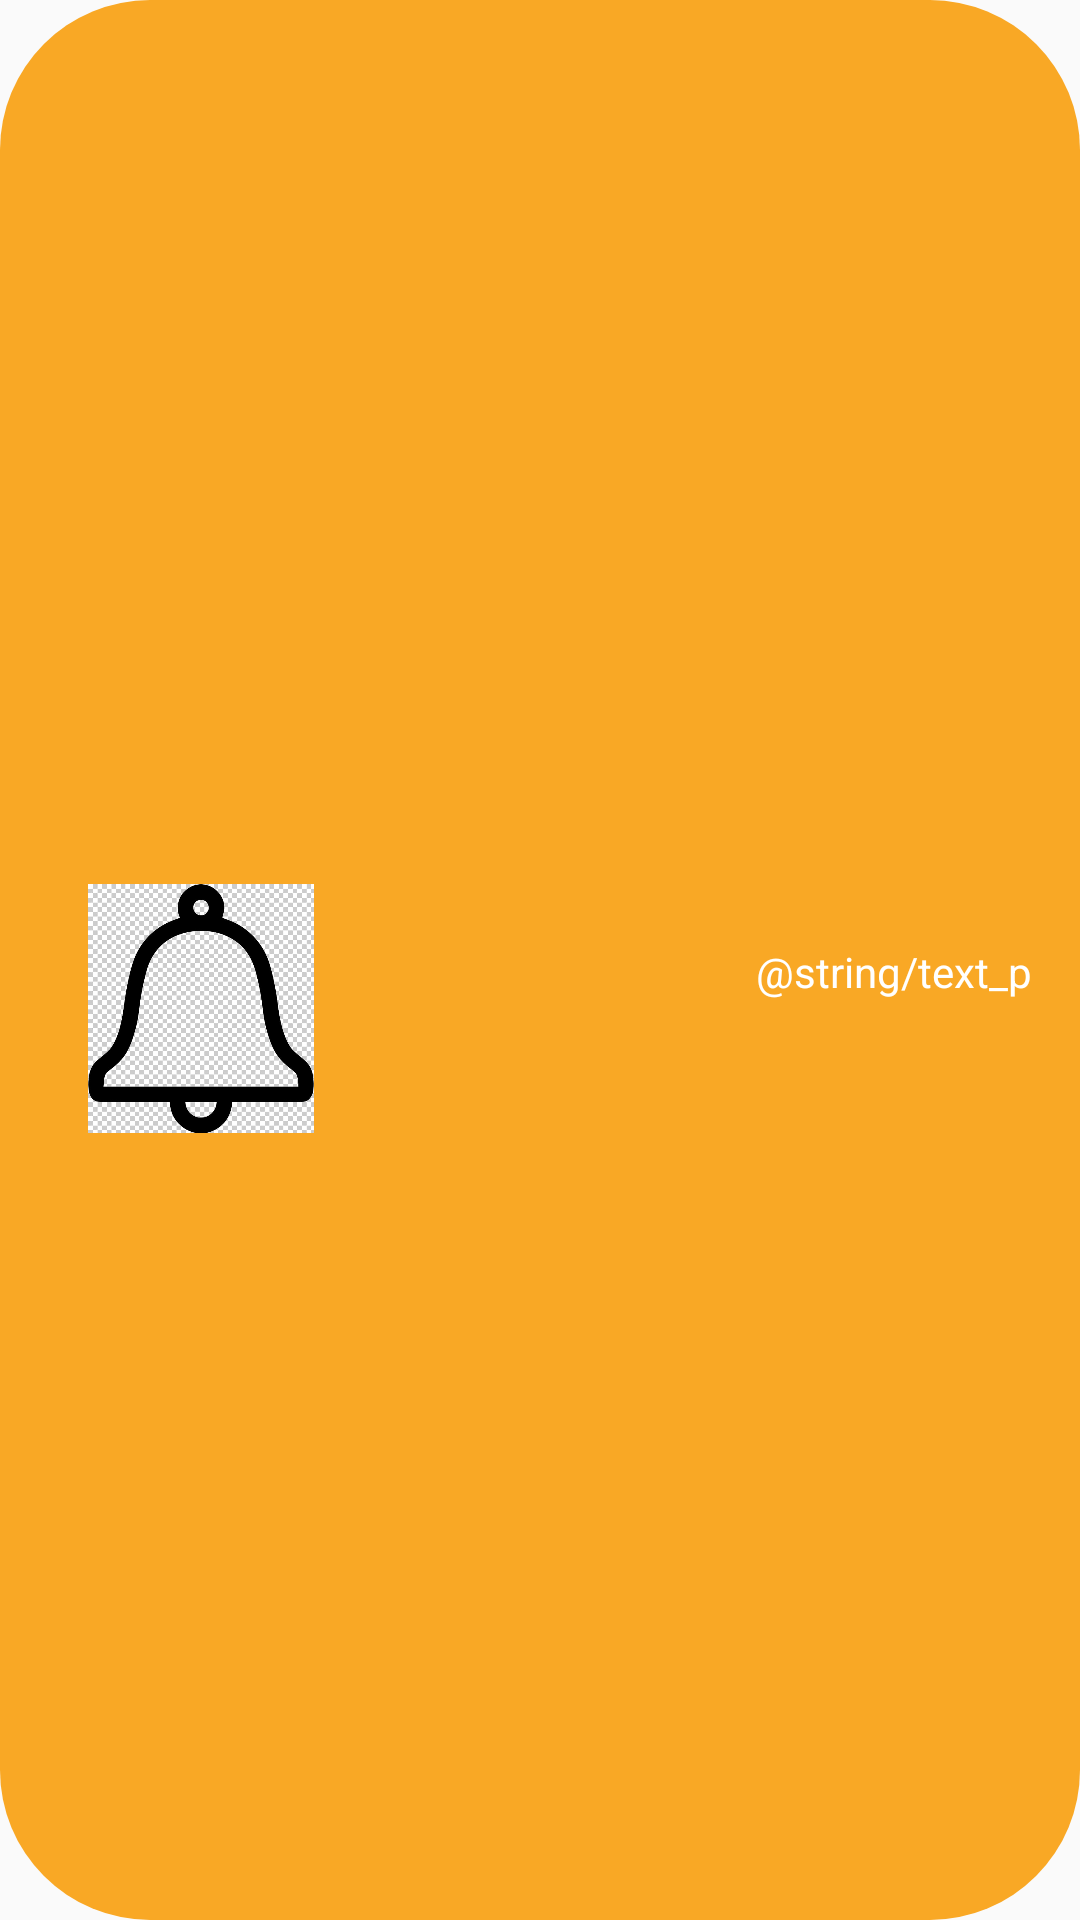

Icons on this 1080px×1920px Android screen, each with the point to tap as (x,y):
notificacionimg: (201,1008)
